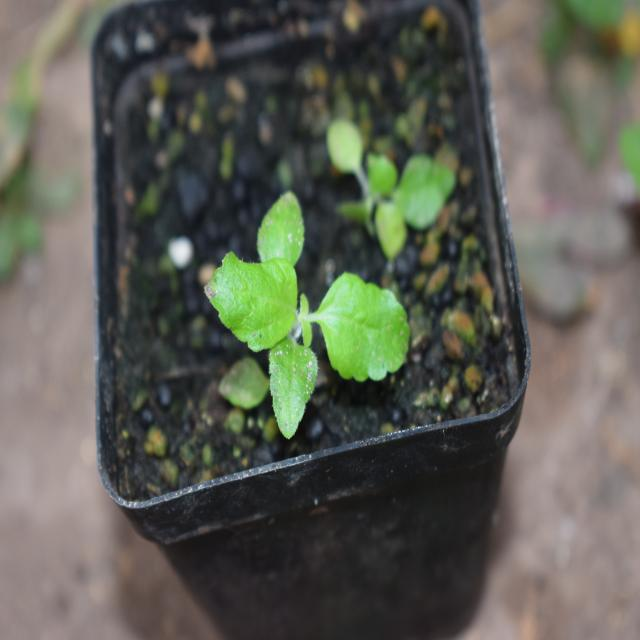billygoat_weed: (191, 183, 425, 408)
